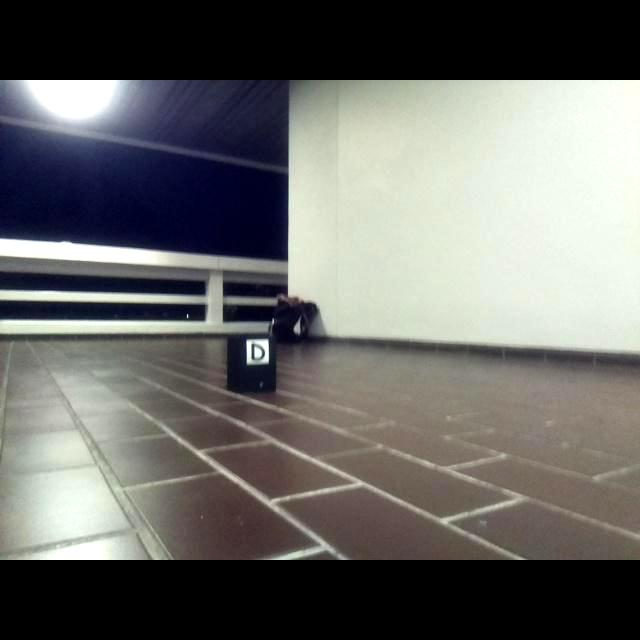D: (250, 342, 266, 362)
